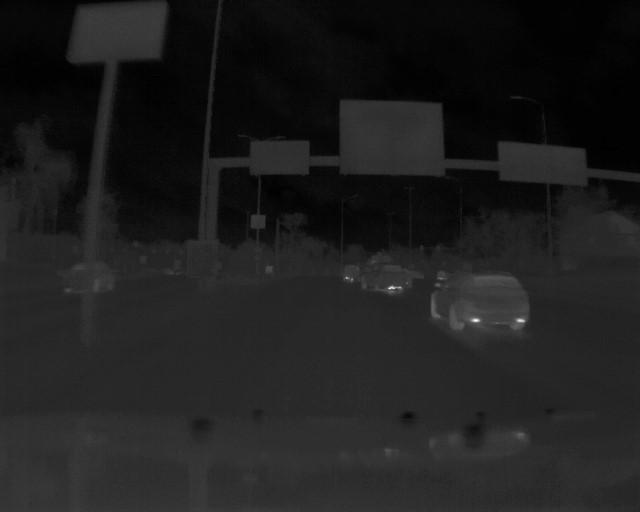car: (426, 271, 529, 331), (357, 262, 411, 295)
